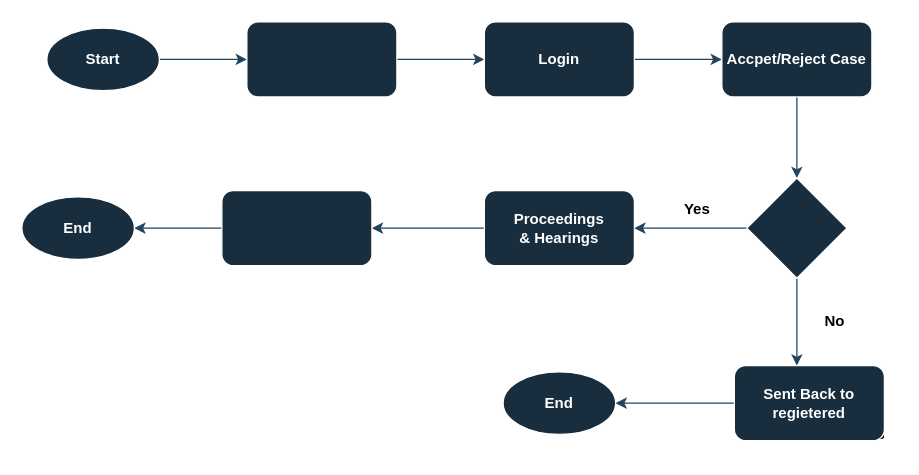
This 919x475 diagram has some shape labels left out. Each missing label, with the box of its shape:
Accept: (746, 177, 847, 278)
Final Descision: (221, 189, 372, 266)
Register: (246, 21, 397, 97)
